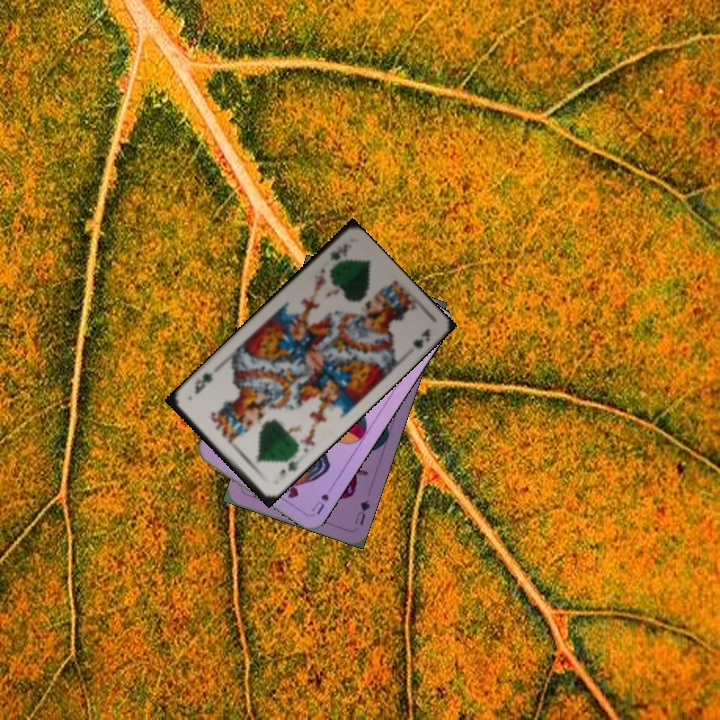GK: (275, 451, 302, 481), (326, 240, 350, 263)
GU: (350, 496, 372, 528)
SU: (307, 480, 336, 517)
